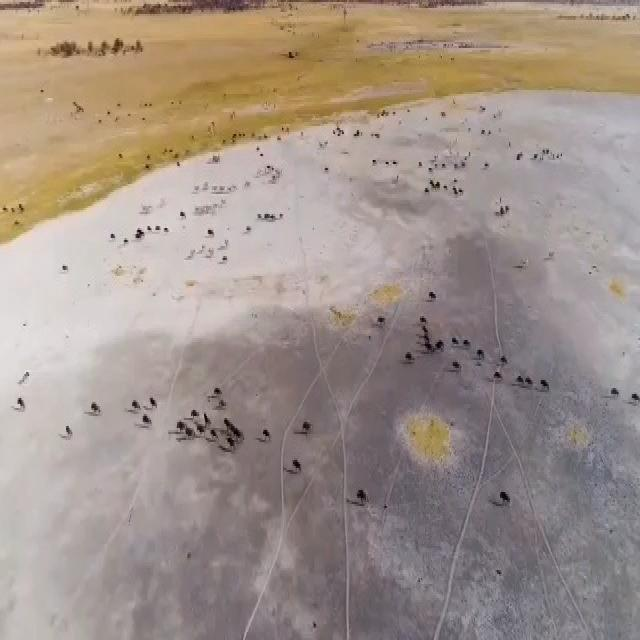Wildebeast: (353, 479, 373, 527), (223, 431, 246, 466), (414, 311, 432, 354), (60, 419, 80, 454), (126, 393, 144, 427), (289, 453, 309, 483), (259, 413, 274, 453), (495, 484, 514, 514), (88, 390, 101, 428), (423, 283, 441, 309), (541, 369, 556, 400), (458, 328, 472, 359), (224, 416, 241, 440), (515, 370, 526, 406), (447, 322, 458, 358), (300, 418, 316, 442), (177, 413, 190, 440), (140, 390, 154, 415), (9, 390, 24, 412), (609, 379, 621, 405), (475, 336, 485, 367), (633, 384, 640, 428), (405, 346, 416, 372), (492, 363, 503, 389), (203, 415, 219, 430), (376, 313, 385, 331), (450, 362, 463, 374), (192, 407, 197, 430), (216, 392, 221, 412)
